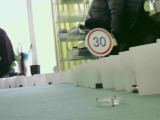speed_30: (84, 27, 114, 57)
